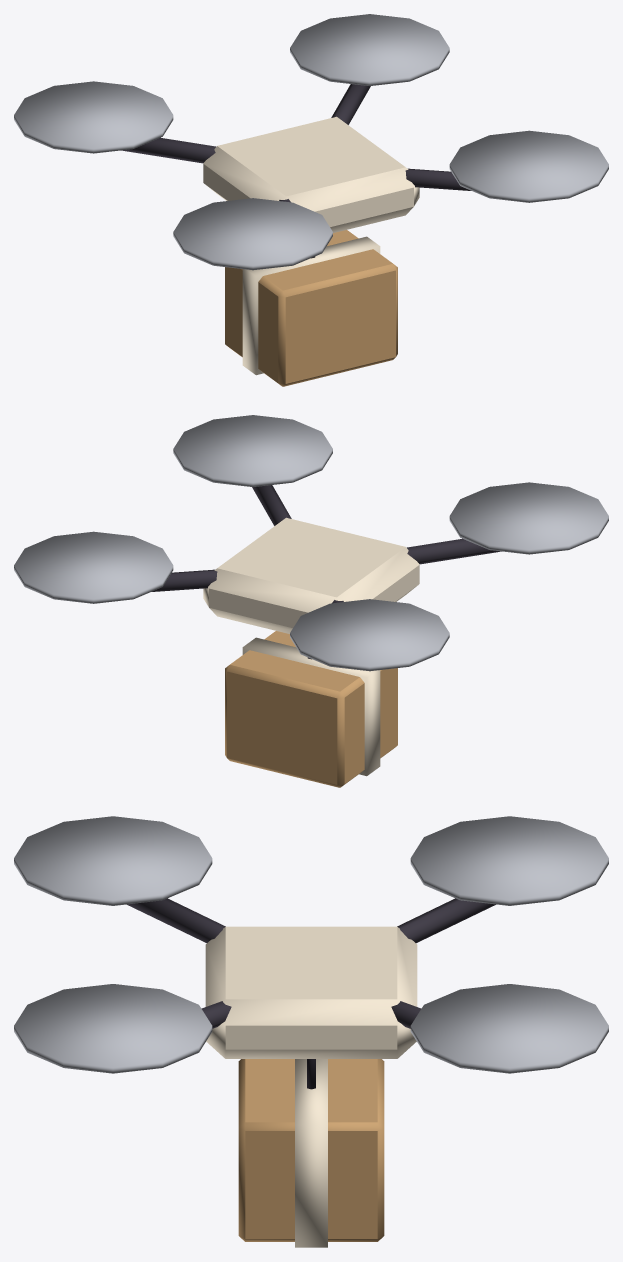
File: era_drone.glb
3 views of the same model, one above another, from view 1: azimuth 30°, elevation 25°; view 2: azimuth 150°, elevation 25°; view 3: azimuth 270°, elevation 25° (orthographic). The views are drawn at different scales.
Parts seen in each view (by area): view 1: era_drone; view 2: era_drone; view 3: era_drone.
Boxes of the visible parts, bbox=[...] form: era_drone: bbox=[14, 14, 608, 386]; era_drone: bbox=[14, 415, 608, 787]; era_drone: bbox=[14, 816, 608, 1247].
Size of the model in its own units: 0.9 by 0.4475 by 0.9.
